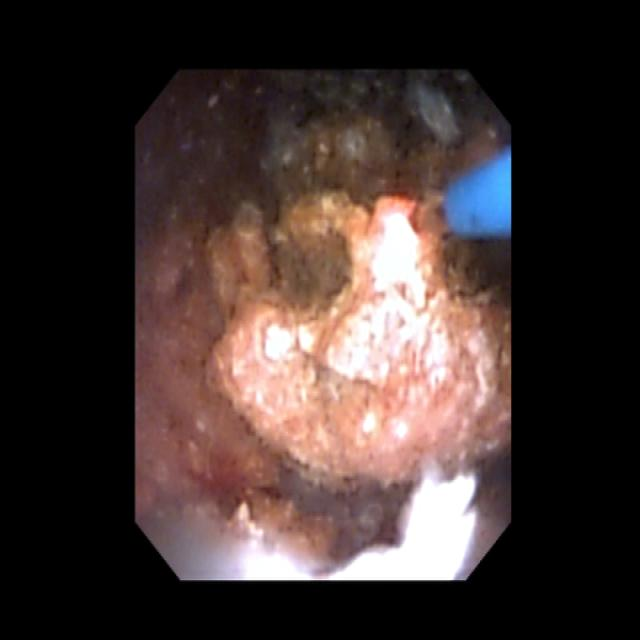fiber: (445, 153, 508, 237)
stone: (206, 117, 508, 483)
